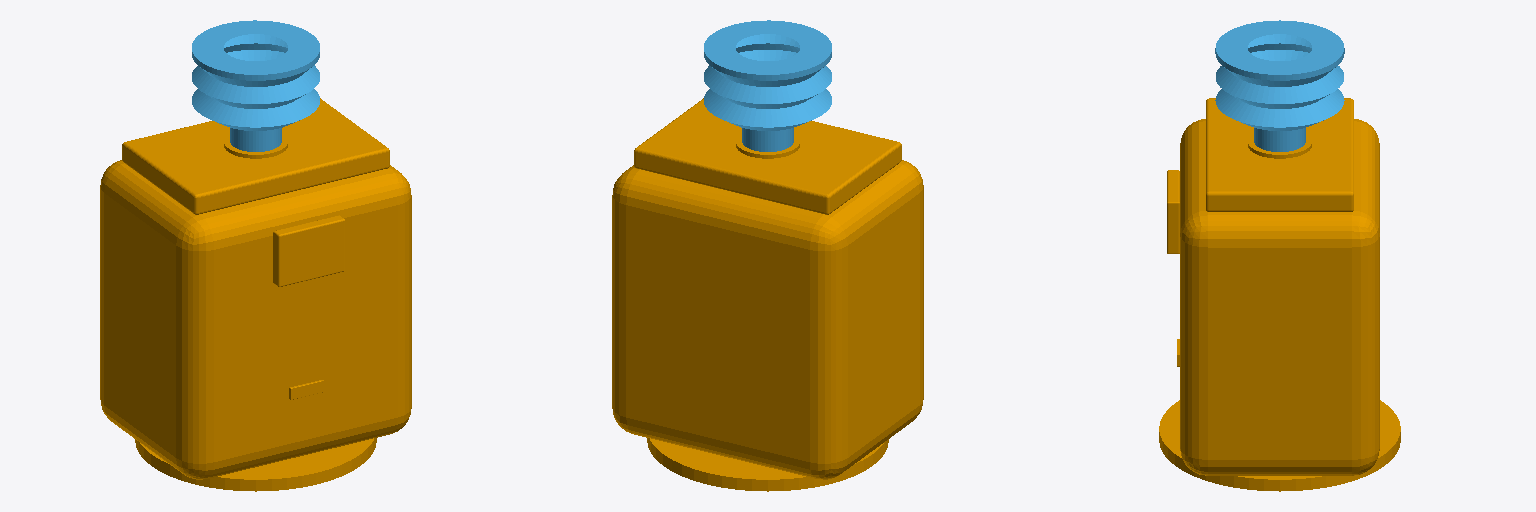
The robot description file, URDF, robot "robotiq_epick_single_cup":
<?xml version="1.0"?>
<robot name="robotiq_epick_single_cup">
<link name="mount"><visual ><geometry ><mesh filename="../meshes/mount.obj"/></geometry></visual><collision ><origin xyz="0 0 0.002" rpy="0 0 0"/><geometry ><cylinder radius="0.0375" length="0.004"/></geometry></collision><collision ><origin xyz="0 0 0.0525" rpy="0 0 0"/><geometry ><box size="0.083 0.062 0.097"/></geometry></collision><collision ><origin xyz="0 0 0.10165" rpy="0 0 0"/><geometry ><cylinder radius="0.01" length="0.0013"/></geometry></collision></link>
<link name="cup_1"><visual ><geometry ><mesh filename="../meshes/cup_1.obj"/></geometry></visual><collision ><origin xyz="0 0 0.004" rpy="0 0 0"/><geometry ><cylinder radius="0.008" length="0.008"/></geometry></collision><collision ><origin xyz="0 0 0.02" rpy="0 0 0"/><geometry ><cylinder radius="0.02" length="0.024"/></geometry></collision></link>
<link name="cup_1_contact"></link>
<link name="tcp"></link>
<joint name="cup_1_joint" type="fixed"><parent link="mount"/><child link="cup_1"/><origin xyz="0 0 0.1023" rpy="0 0 0"/></joint>
<joint name="cup_1_contact_joint" type="fixed"><parent link="cup_1"/><child link="cup_1_contact"/><origin xyz="0 0 0.032" rpy="0 0 0"/></joint>
<joint name="tcp_joint" type="fixed"><parent link="mount"/><child link="tcp"/><origin xyz="0 0 0.1343" rpy="0 0 0"/></joint>
</robot>

--- What the picture shows (computed from the rendered views, not written in the file) ---
The picture shows the robot from 3 angles, left to right: view 1: azimuth 30°, elevation 25°; view 2: azimuth 150°, elevation 25°; view 3: azimuth 270°, elevation 25°; orthographic projection.
Robot: robotiq_epick_single_cup — 4 links, 3 joints (3 fixed); root link mount; default pose: every joint at zero.
Visible links, largest first — view 1: mount, cup_1; view 2: mount, cup_1; view 3: mount, cup_1.
Boxes of the visible links, <box> form: mount: <box>100,98,411,491</box>; cup_1: <box>192,20,319,151</box>; mount: <box>612,98,923,491</box>; cup_1: <box>704,20,831,151</box>; mount: <box>1159,98,1400,491</box>; cup_1: <box>1215,20,1344,151</box>.
Bounding box of the posed robot: 0.083 × 0.075 × 0.1343 m (x, y, z).
2 mesh visuals loaded from 2 distinct referenced files (2 OBJ).
